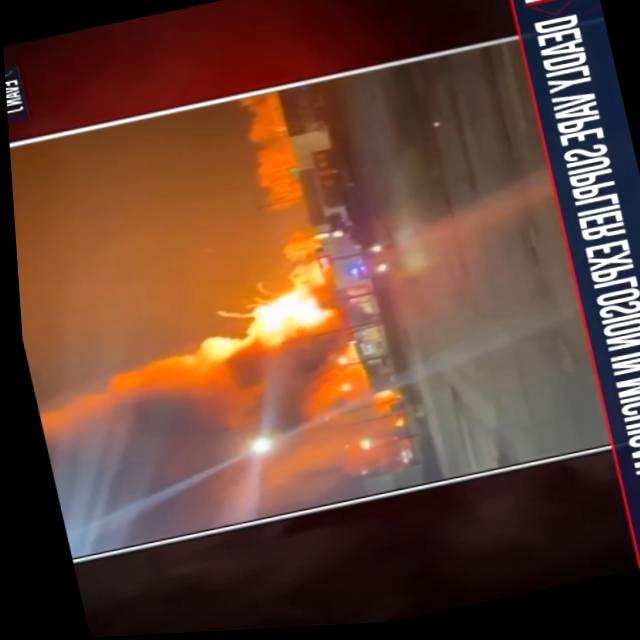fire: (14, 253, 388, 553)
